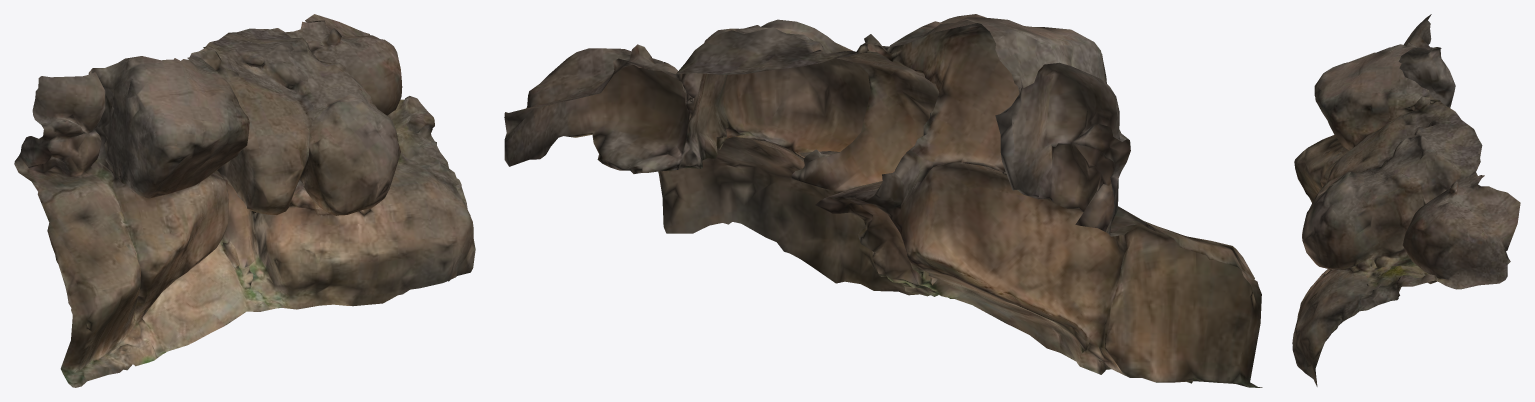
The model's file is cliff.glb.
The picture shows the model from 3 angles, left to right: view 1: azimuth 30°, elevation 25°; view 2: azimuth 150°, elevation 25°; view 3: azimuth 270°, elevation 25°; orthographic projection. The views are drawn at different scales.
Visible parts, largest first — view 1: drone_rock_01; view 2: drone_rock_01; view 3: drone_rock_01.
Part boxes in pixels (x1,y1,x2,y2): drone_rock_01: [14, 14, 475, 387]; drone_rock_01: [504, 14, 1262, 387]; drone_rock_01: [1292, 14, 1520, 386].
Size of the model in its own units: 8.28 by 4.96 by 4.38.
1 material, 1 textured.
